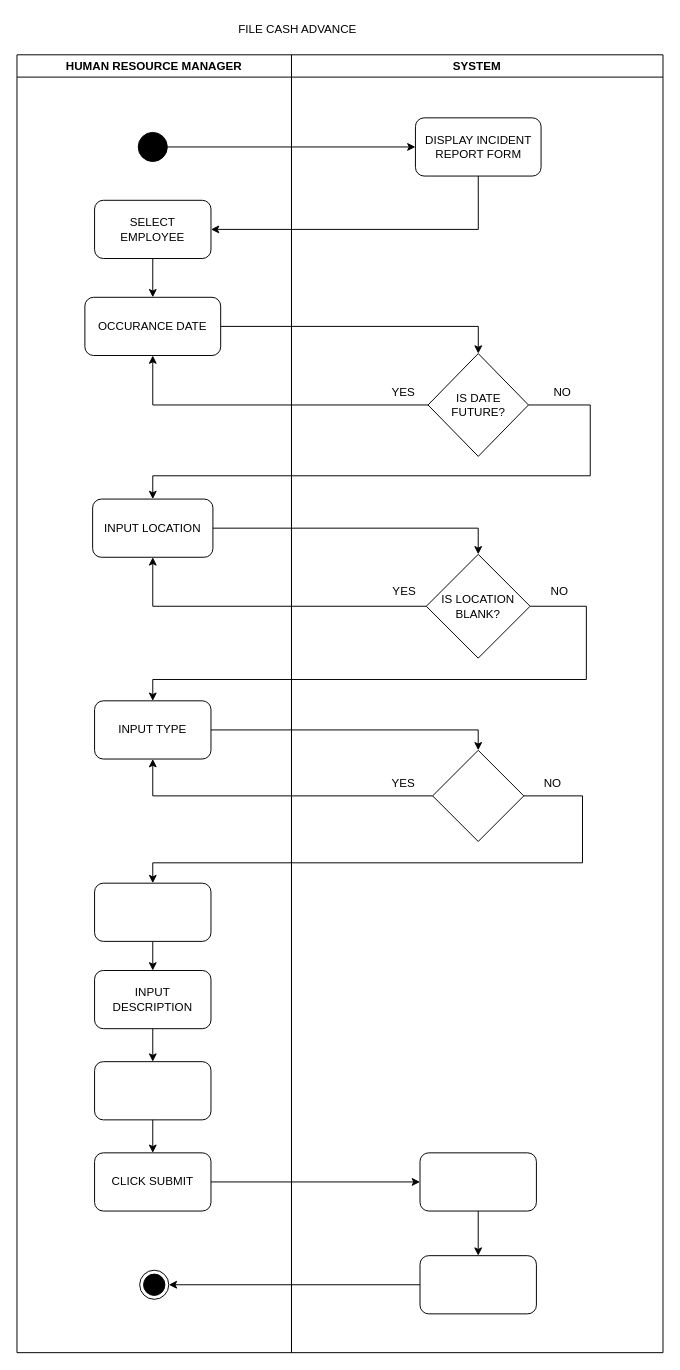
This 680x1370 diagram has some shape labels left out. The shapes that lost their labels are listed below. From the top down, each one's centre as x and y in pixels, then its label:
(478,795): IS TYPE BLANK?
(152,911): SELECT SEVERITY
(152,1090): INPUT COMMENT
(477,1181): SEND EMAIL NOTIFICATION
(477,1284): DISPLAY "FILED CASH ADVANCE"
